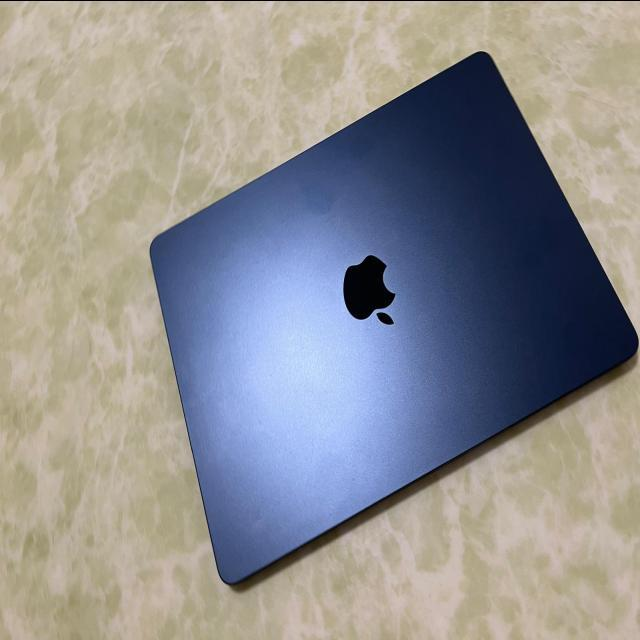laptop: (148, 49, 638, 586)
